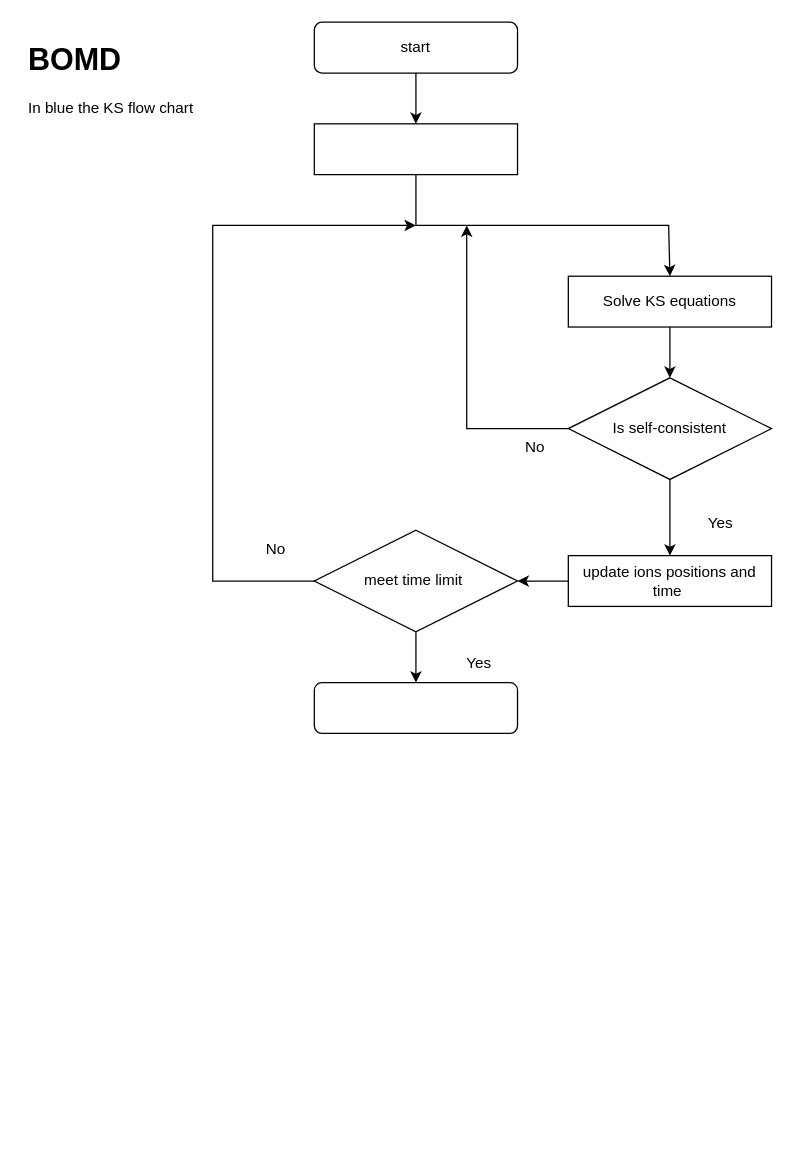
Some shapes in this 794 by 1172 pixel diagram are drawn without their labels. Each missing label, with the box of its shape:
Output data: (313, 681, 518, 733)
set initial conditions (like velocities): (313, 123, 518, 175)
